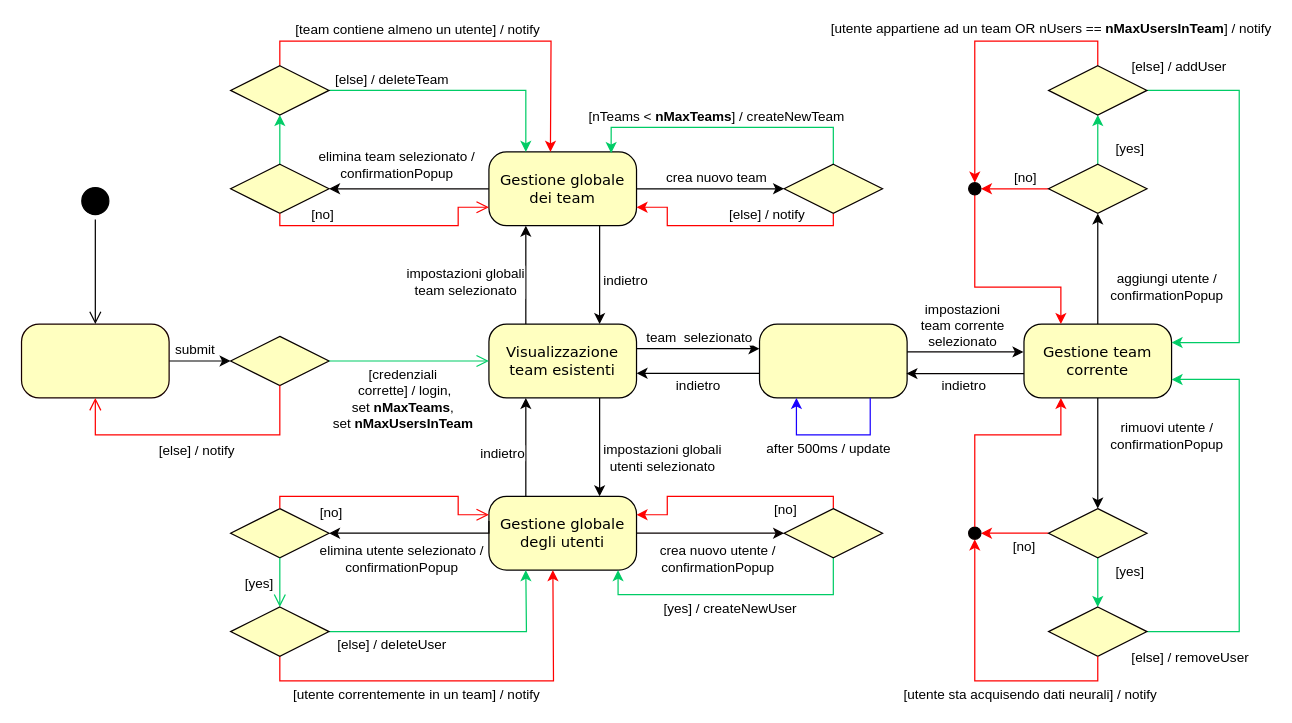
Some shapes in this 1292 by 723 pixel diagram are drawn without their labels. The shapes that lost their labels are listed below. From the top down, each one's box as (x1, y1, x2, y2) in pixels, then its label:
(20, 323, 169, 398): Attesa login
(758, 323, 907, 398): Visualizzazione dati team
